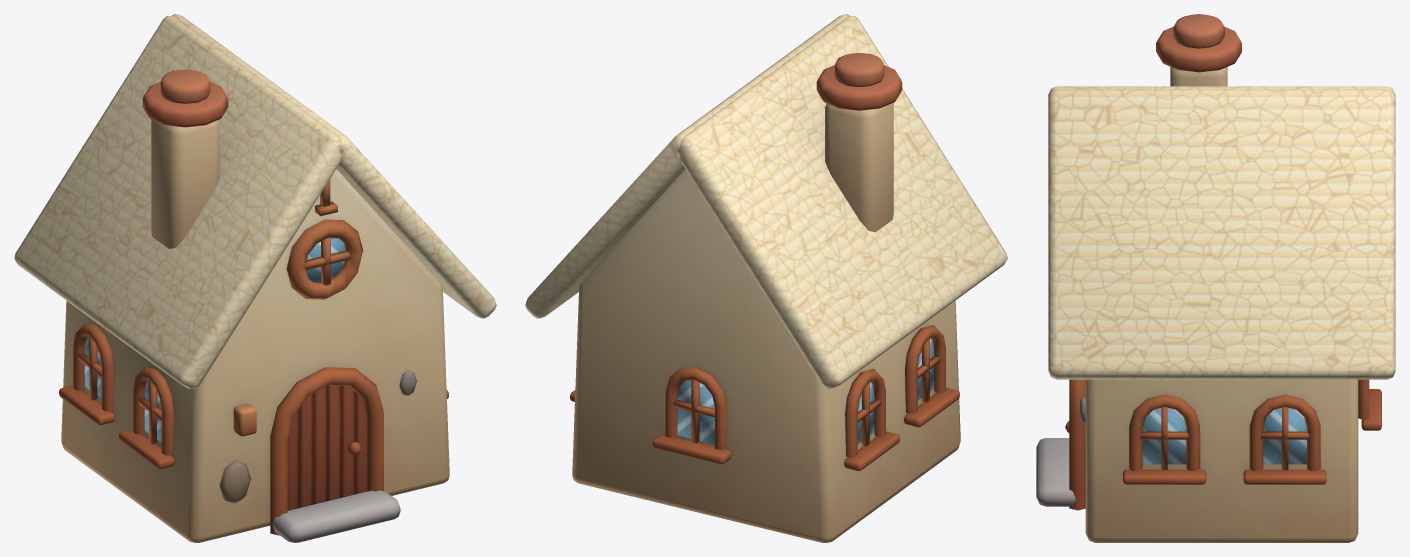
The model's file is hut_mid.glb.
The picture shows the model from 3 angles, left to right: view 1: azimuth 30°, elevation 25°; view 2: azimuth 150°, elevation 25°; view 3: azimuth 270°, elevation 25°; orthographic projection.
Visible parts, largest first — view 1: hut; view 2: hut; view 3: hut.
Boxes of the visible parts, x1,y1,x2,y2 form: hut: (14, 14, 496, 542); hut: (525, 14, 1007, 542); hut: (1036, 14, 1395, 542).
Size of the model in its own units: 1.28 by 1.62 by 1.25.
Materials: 1 (1 with a texture image).
